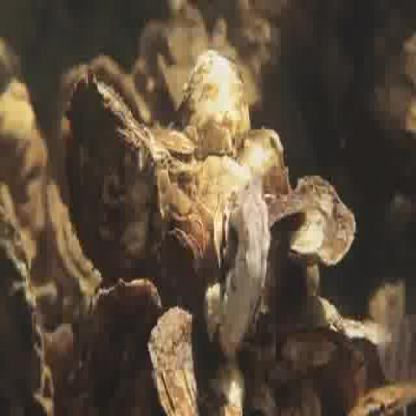3: (155, 226, 205, 312), (279, 332, 364, 381), (335, 318, 393, 350), (211, 205, 234, 275), (350, 356, 372, 405)
Oyster-Closed: (66, 64, 163, 274), (0, 146, 71, 410), (212, 185, 268, 362), (144, 304, 208, 416), (153, 123, 201, 153)
Oyster-Open: (170, 49, 252, 161), (263, 179, 359, 270), (94, 274, 165, 366), (176, 156, 251, 229), (95, 49, 162, 117), (238, 129, 291, 198), (169, 1, 209, 63), (229, 39, 265, 104), (207, 357, 244, 415), (144, 23, 174, 71)
